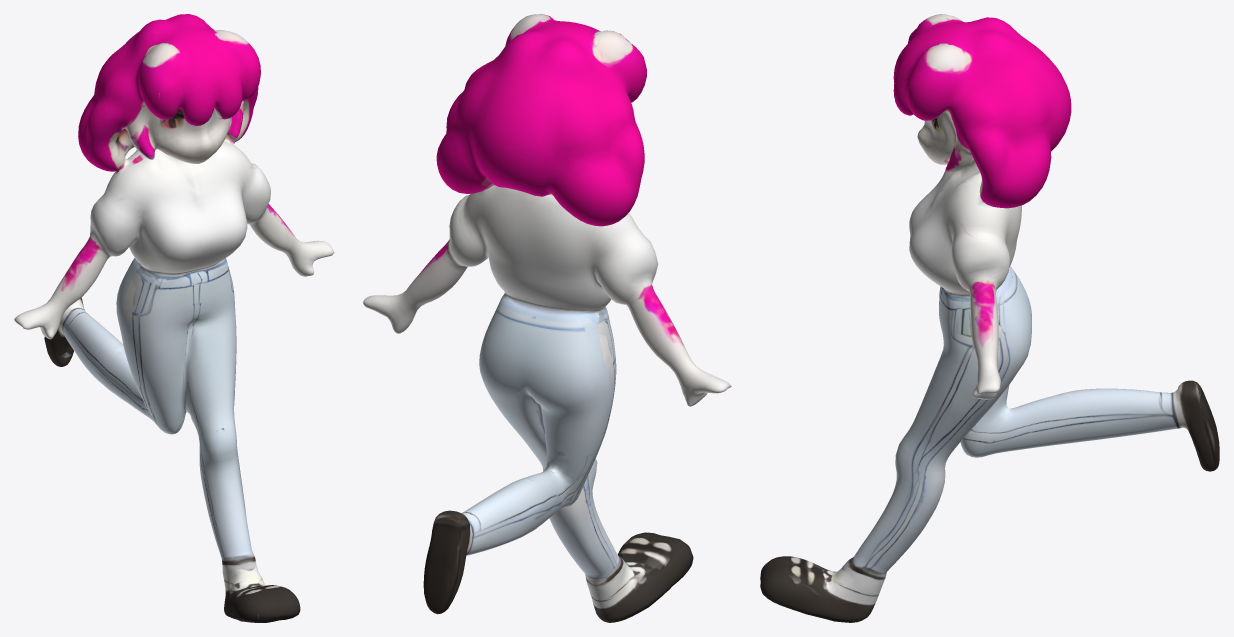
Rendered from asset.glb.
3 renders of one model, left to right at view 1: azimuth 30°, elevation 25°; view 2: azimuth 150°, elevation 25°; view 3: azimuth 270°, elevation 25°, orthographic. The views are drawn at different scales.
Parts seen in each view (by area): view 1: model; view 2: model; view 3: model.
Boxes of the visible parts, x1,y1,x2,y2 form: model: [14, 14, 334, 622]; model: [363, 14, 731, 622]; model: [760, 14, 1219, 622].
Bounding box in the file's own units: 0.9914 × 1.67 × 1.18.
1 material, 1 textured.
